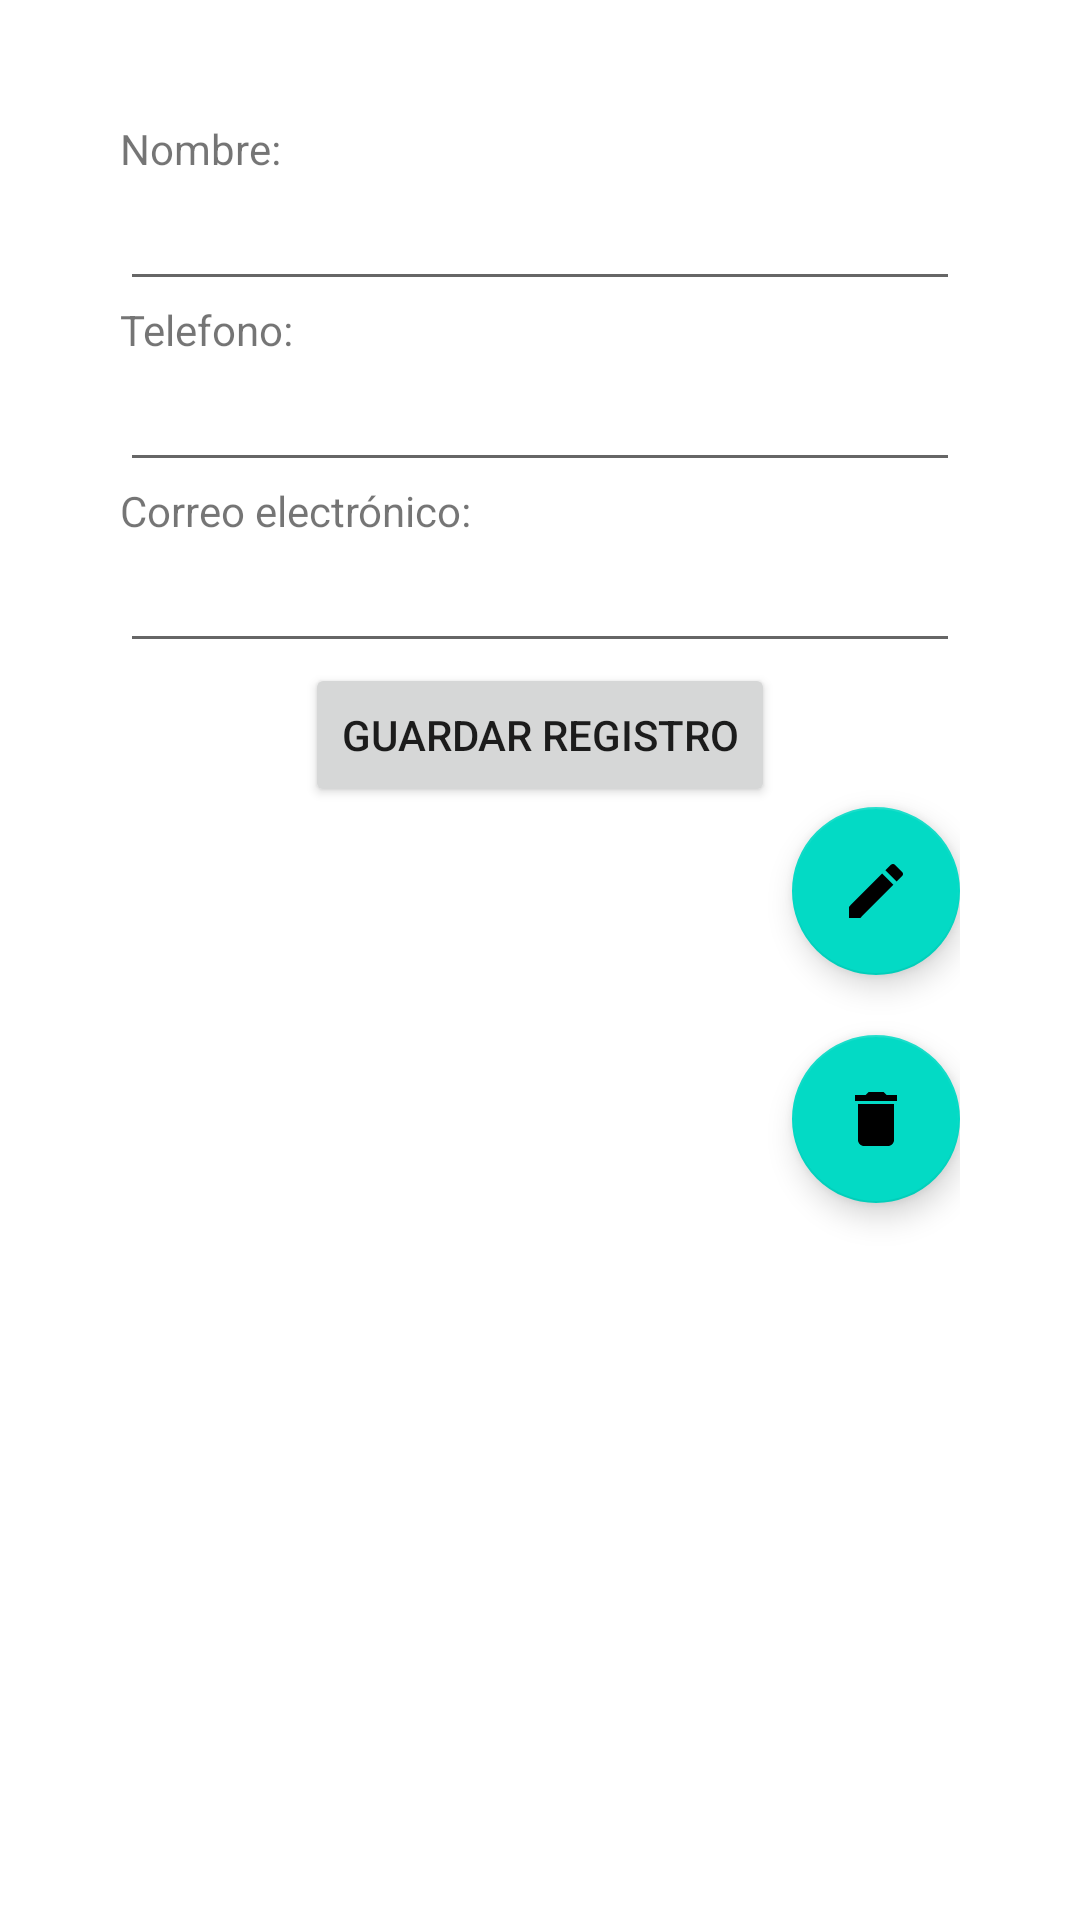

Icons on this 1080×1920 Android screen, each with the point to tap as (x,y):
delete: (876,1119)
edit: (876,891)
